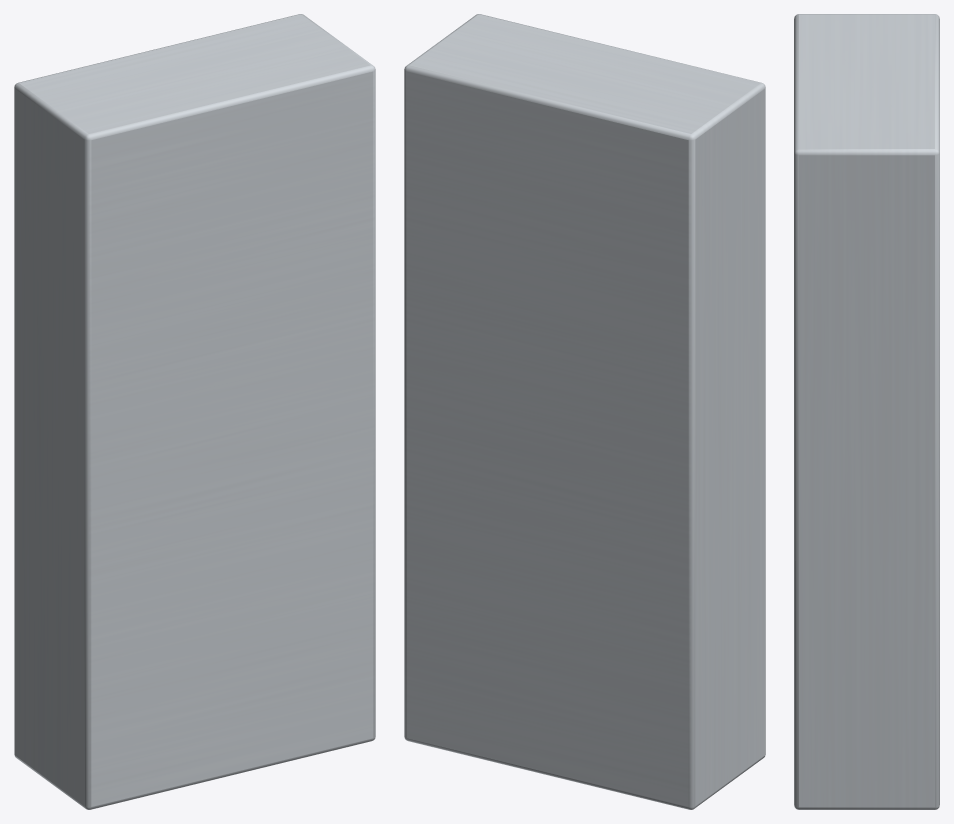
File: camera_mount_aluminium.obj
The picture shows the model from 3 angles, left to right: view 1: azimuth 30°, elevation 25°; view 2: azimuth 150°, elevation 25°; view 3: azimuth 270°, elevation 25°; orthographic projection. The views are drawn at different scales.
Visible parts, largest first — view 1: camera_mount__kinect_heatspreader_provisional; view 2: camera_mount__kinect_heatspreader_provisional; view 3: camera_mount__kinect_heatspreader_provisional.
Part boxes in pixels (x1,y1,x2,y2): camera_mount__kinect_heatspreader_provisional: [14, 14, 375, 809]; camera_mount__kinect_heatspreader_provisional: [404, 14, 765, 809]; camera_mount__kinect_heatspreader_provisional: [794, 14, 939, 809].
Size of the model in its own units: 0.045 by 0.1 by 0.02.
Materials: 1 (1 with a texture image).
